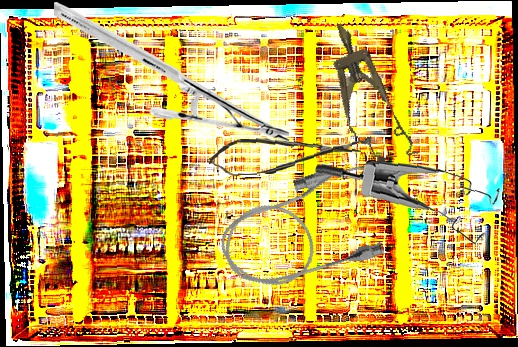Cannula: (207, 156, 397, 302)
Micro Scissor: (208, 133, 362, 177)
Needle Holder: (54, 2, 289, 144)
Speculum: (313, 152, 504, 253), (313, 13, 419, 174)
